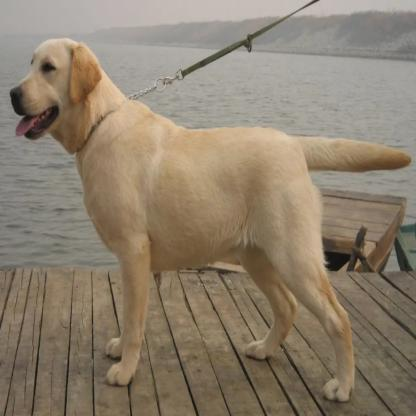dog: (9, 36, 413, 401)
